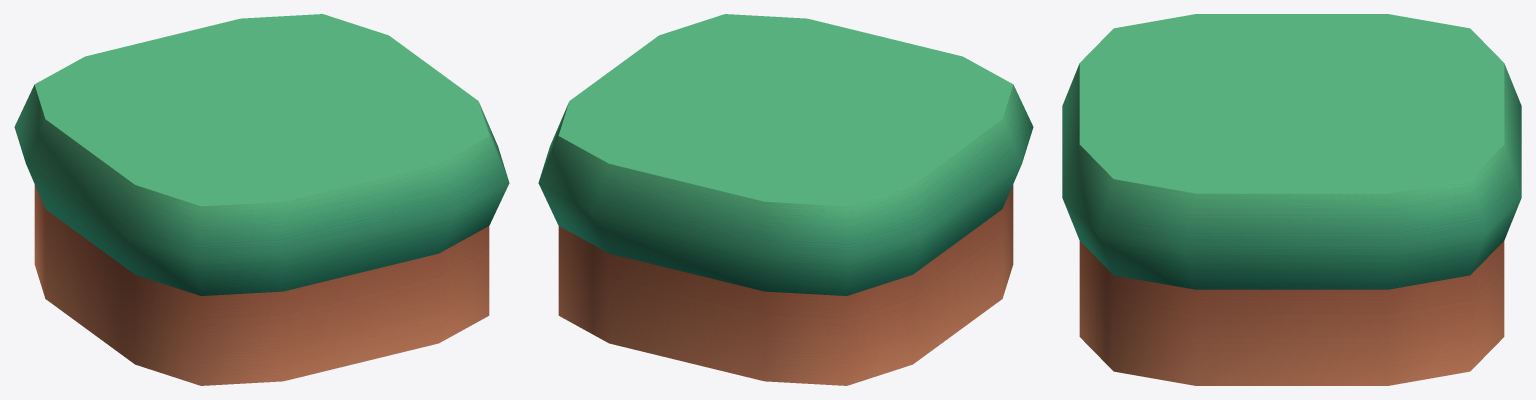
The model's file is block-grass-low.glb.
3 views of the same model, side by side, from view 1: azimuth 30°, elevation 25°; view 2: azimuth 150°, elevation 25°; view 3: azimuth 270°, elevation 25° (orthographic). The views are drawn at different scales.
Visible parts, largest first — view 1: block-grass-low; view 2: block-grass-low; view 3: block-grass-low.
Part boxes in pixels (x1,y1,x2,y2): block-grass-low: [14, 14, 509, 385]; block-grass-low: [538, 14, 1033, 385]; block-grass-low: [1062, 14, 1521, 385].
Size of the model in its own units: 1.08 by 0.5 by 1.08.
1 material, 1 textured.
